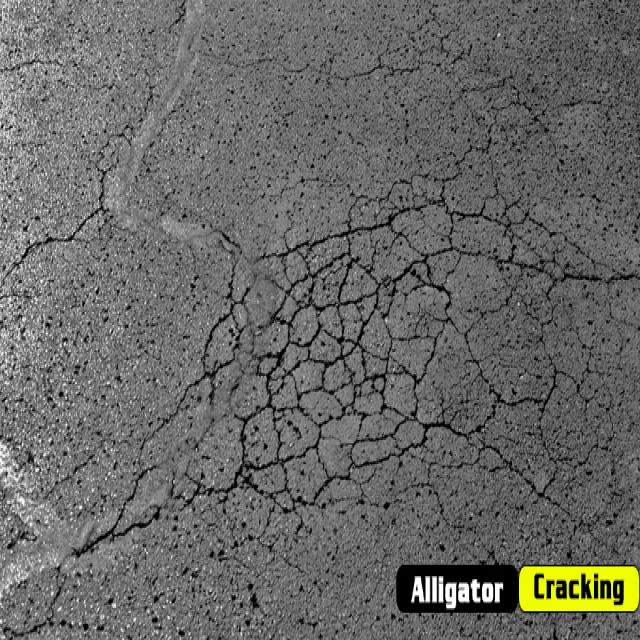Drain Hole: (180, 223, 640, 541)
